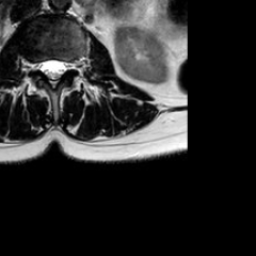CCS_normal: (48, 49, 58, 95)
LFS_normal: (67, 50, 77, 81)
LLS_normal: (58, 50, 67, 82)
RFS_normal: (28, 51, 38, 81)
RLS_normal: (38, 51, 48, 82)
